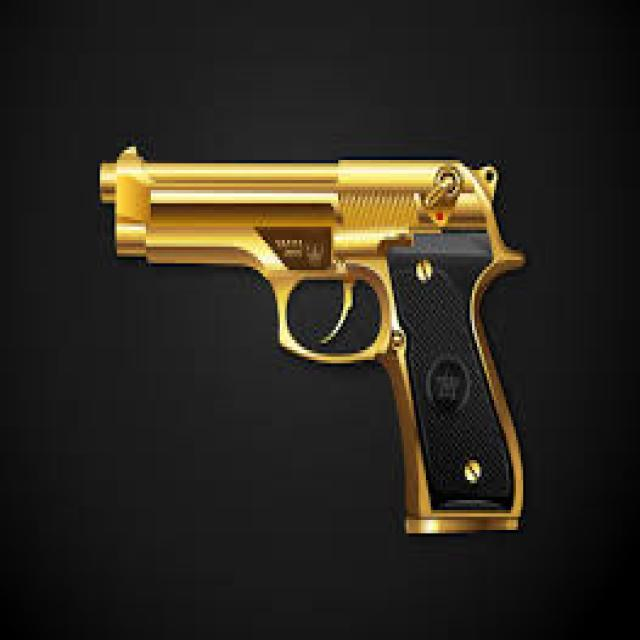gun: (80, 98, 573, 551)
